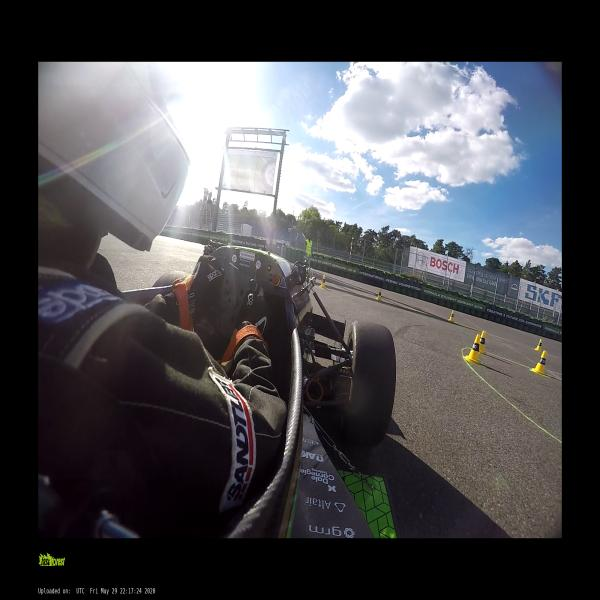yellow_cone: (464, 334, 481, 364), (530, 351, 546, 376), (479, 331, 486, 355), (534, 338, 542, 352), (448, 311, 454, 323), (320, 276, 325, 290), (376, 291, 382, 301)
